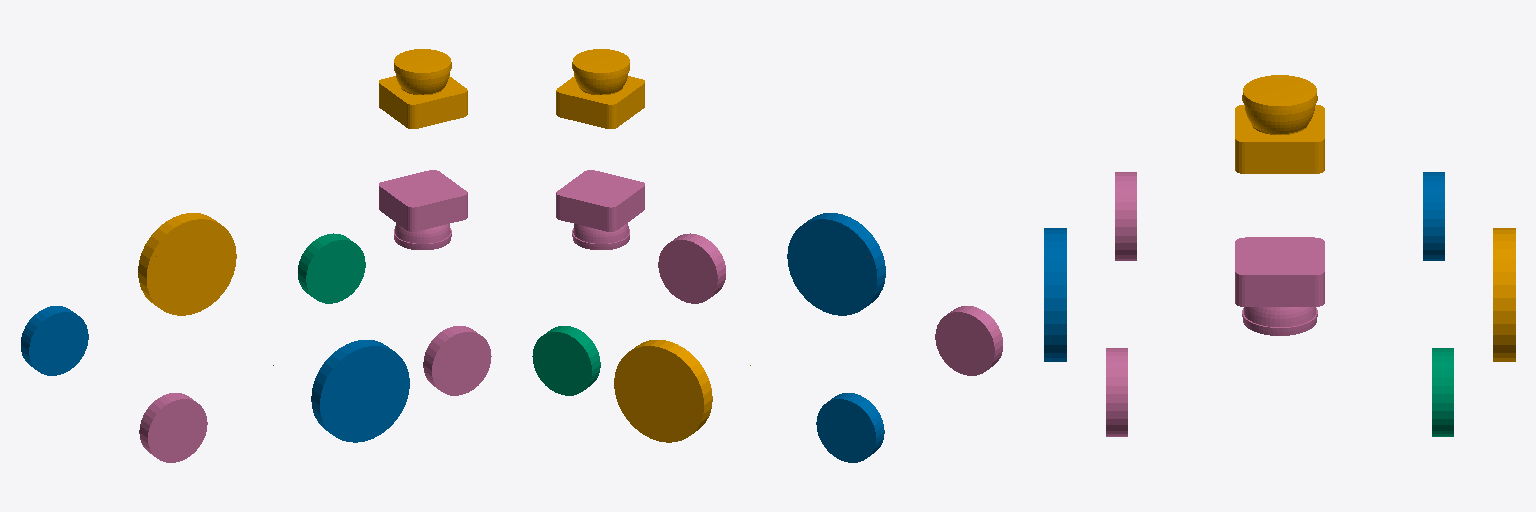
--- What the picture shows (computed from the rendered views, not written in the file) ---
The picture shows the robot from 3 angles, left to right: view 1: azimuth 30°, elevation 25°; view 2: azimuth 150°, elevation 25°; view 3: azimuth 270°, elevation 25°; orthographic projection.
Robot: rb_theron — 34 links, 33 joints (2 revolute, 10 continuous, 21 fixed); root link base_footprint; default pose: all joints at 0.
Links seen in each view (by area): view 1: left_wheel_link, right_wheel_link, front_laser_base_link, top_laser_base_link, leftwheel, rightcastorwheel, leftcastorwheel, rightwheel; view 2: right_wheel_link, left_wheel_link, front_laser_base_link, top_laser_base_link, rightwheel, rightcastorwheel, leftcastorwheel, leftwheel; view 3: front_laser_base_link, top_laser_base_link, right_wheel_link, left_wheel_link, rightcastorwheel, leftcastorwheel, leftwheel, rightwheel.
Boxes of the visible links, x1,y1,x2,y2 form: left_wheel_link: (138,213,236,315); right_wheel_link: (311,340,409,442); front_laser_base_link: (379,170,467,249); top_laser_base_link: (379,49,467,128); leftwheel: (21,306,88,375); rightcastorwheel: (423,326,491,395); leftcastorwheel: (298,233,365,303); rightwheel: (139,393,207,462); right_wheel_link: (787,213,885,315); left_wheel_link: (614,340,712,442); front_laser_base_link: (556,170,644,249); top_laser_base_link: (556,49,644,128); rightwheel: (935,306,1002,375); rightcastorwheel: (658,233,725,303); leftcastorwheel: (532,326,600,395); leftwheel: (816,393,884,462); front_laser_base_link: (1235,237,1324,335); top_laser_base_link: (1235,75,1324,173); right_wheel_link: (1044,228,1066,361); left_wheel_link: (1493,228,1515,361); rightcastorwheel: (1106,348,1127,436); leftcastorwheel: (1432,348,1453,436); leftwheel: (1423,172,1444,260); rightwheel: (1115,172,1136,260).
Bounding box of the posed robot: 0.6183 × 0.528 × 0.4478 m (x, y, z).
Meshes: 8 distinct files referenced, 2 mesh visuals loaded (1 Collada DAE); not drawn: 10 (reference not matched to a file when rendering).

robot.urdf — rb_theron:
<?xml version="1.0" encoding="utf-8"?>
<!-- =================================================================================== -->
<!-- |    This document was autogenerated by xacro from rb_theron.urdf.xacro           | -->
<!-- |    EDITING THIS FILE BY HAND IS NOT RECOMMENDED                                 | -->
<!-- =================================================================================== -->
<robot name="rb_theron">
  <!-- ***************** -->
  <!-- Imported elements -->
  <!-- ***************** -->
  <!-- First we import all posible elements defined in the urdf.xacro files. All these elements are defined as macro:xacros -->
  <!-- in kg-->
  <!-- in kg-->
  <!-- in kg-->
  <!-- in kg-->
  <!-- in kg-->
  <!-- in kg-->
  <!-- in kg-->
  <!-- source en.wikipedia.org/wiki/List_of_moments_of_inertia-->
  <!-- This file unifies all sensors that can be used on simulation, defined as xacro:macros -->
  <!-- Includes -->
  <!-- *************** -->
  <!-- Robots Elements -->
  <!-- *************** -->
  <!-- Here we create the robot elements using the xacro:macros imported at the beggining of this file -->
  <!-- this property is for the chassis -->
  <!-- xacro:property name="wheel_width" value="0.150" / -->
  <link name="base_footprint">
    <visual>
      <origin rpy="0 0 0" xyz="0 0 0"/>
      <geometry>
        <box size="0.001 0.001 0.001"/>
      </geometry>
    </visual>
  </link>
  <joint name="base_footprint_joint" type="fixed">
    <origin rpy="0 0 0" xyz="0 0 0.0606"/>
    <parent link="base_footprint"/>
    <child link="base_link"/>
  </joint>
  <!-- BASE_LINK -->
  <link name="base_link">
    <inertial>
      <mass value="50.0"/>
      <origin xyz="-0.120 0 0"/>
      <inertia ixx="2.01041666667" ixy="0" ixz="0" iyy="2.55208333333" iyz="0" izz="2.55208333333"/>
    </inertial>
    <visual>
      <origin rpy="0 0 0" xyz="0 0 0"/>
      <geometry>
        <mesh filename="meshes/bases/theron_base.stl"/>
      </geometry>
      <material name="darkgrey">
        <color rgba="0.1 0.1 0.1 1"/>
      </material>
    </visual>
    <collision>
      <origin rpy="0 0 0 " xyz="0 0 0"/>
      <geometry>
        <!--box size="0.390 0.240 0.165"/-->
        <mesh filename="meshes/bases/theron_base.stl"/>
      </geometry>
    </collision>
  </link>
  <link name="bottom_cover_link">
    <inertial>
      <mass value="2.0"/>
      <origin xyz="0 0 0"/>
      <inertia ixx="0.0804166666667" ixy="0" ixz="0" iyy="0.102083333333" iyz="0" izz="0.102083333333"/>
    </inertial>
    <visual>
      <origin rpy="0 0 0" xyz="0 0 0"/>
      <geometry>
        <mesh filename="meshes/bases/mcq_prototype_bottom_cover.dae"/>
      </geometry>
      <material name="darkgrey">
        <color rgba="0.1 0.1 0.1 1"/>
      </material>
    </visual>
    <collision>
      <origin rpy="0 0 0 " xyz="0 0 0"/>
      <geometry>
        <mesh filename="meshes/bases/mcq_prototype_bottom_cover.dae"/>
      </geometry>
    </collision>
  </link>
  <joint name="bottom_cover_joint" type="fixed">
    <origin rpy="0 0 0" xyz="0 0 0"/>
    <parent link="base_link"/>
    <child link="bottom_cover_link"/>
  </joint>
  <!-- DOCKING CONTACTS -->
  <!--joint name="${prefix}base_docking_joint" type="fixed">
      <origin xyz="0.030 0.000 0.068" rpy="0 0 0 " />
      <parent link="${prefix}front_cover_link"/>
      <child link="${prefix}base_docking_contact_link" />
    </joint-->
  <!-- DOCKING LINK -->
  <!--link name="${prefix}base_docking_contact_link" /-->
  <gazebo>
    <plugin filename="libgazebo_ros_control.so" name="ros_control">
      <!--robotNamespace>/robot</robotNamespace-->
      <robotParam>robot/description</robotParam>
      <controlPeriod>0.001</controlPeriod>
      <robotSimType>gazebo_ros_control/DefaultRobotHWSim</robotSimType>
      <legacyModeNS>true</legacyModeNS>
    </plugin>
  </gazebo>
  <gazebo reference="base_footprint">
    <material>Gazebo/Green</material>
  </gazebo>
  <gazebo reference="base_link">
    <material>Gazebo/Grey</material>
  </gazebo>
  <gazebo reference="front_cover_link">
    <material>Gazebo/Black</material>
  </gazebo>
  <!--ROCKER BOGIE SUPPORT -->
  <!--joint name="${prefix}joint_support" type="continuous">
      <parent link="${parent}"/>
      <child link="${prefix}support"/>
      <insert_block name="origin" />
      <axis xyz="0 1 0" rpy="0 0 ${M_PI}" />
      <limit effort="100" velocity="100"/>
      <joint_properties damping="0.1" friction="0.1"/>
	</joint -->
  <joint name="rightjoint_rsupport" type="revolute">
    <parent link="base_link"/>
    <child link="rightrsupport"/>
    <origin rpy="0 0 0" xyz="0.1175 -0.1725 0.0428"/>
    <axis rpy="0 0 3.14159265359" xyz="0 1 0"/>
    <limit effort="100" lower="-0.5" upper="0.5" velocity="100"/>
    <joint_properties damping="0.1" friction="0.1"/>
  </joint>
  <link name="rightrsupport">
    <visual>
      <origin rpy="0 0 0" xyz="0 0 0"/>
      <geometry>
        <mesh filename="meshes/rocker/mcq_prototype_rocker_r.dae"/>
      </geometry>
    </visual>
    <collision>
      <origin rpy="0 0 0" xyz="0 0 0"/>
      <geometry>
        <mesh filename="meshes/rocker/mcq_prototype_rocker_r.dae"/>
      </geometry>
    </collision>
    <inertial>
      <mass value="1.5"/>
      <origin xyz="0 0 0"/>
      <inertia ixx="5e-05" ixy="0" ixz="0" iyy="5e-05" iyz="0" izz="7.5e-05"/>
      <!--Check these values -->
    </inertial>
  </link>
  <!-- Transmission is important to link the joints and the controller -->
  <transmission name="rightrsupport_joint_trans">
    <type>transmission_interface/SimpleTransmission</type>
    <joint name="rightjoint_rsupport">
      <hardwareInterface>hardware_interface/EffortJointInterface</hardwareInterface>
    </joint>
    <actuator name="rightrsupport_joint_motor">
      <mechanicalReduction>1</mechanicalReduction>
      <motorTorqueConstant>1</motorTorqueConstant>
    </actuator>
  </transmission>
  <!-- xacro:rubber_wheel prefix="$(arg prefix)wheel" parent="$(arg prefix)support" reflect="true" hq="${hq}">
		<origin xyz="${wheel_offset_x} ${wheel_offset_y} ${wheel_offset_z}" rpy="0 0 0"/>
	</xacro:rubber_wheel -->
  <!--WHEEL TIRE -->
  <joint name="right_wheel_joint" type="continuous">
    <parent link="rightrsupport"/>
    <child link="right_wheel_link"/>
    <origin rpy="0 0 0" xyz="-0.1175 -0.079 -0.0428"/>
    <axis rpy="0 0 0" xyz="0 1 0"/>
    <limit effort="100" velocity="100"/>
    <joint_properties damping="0.0" friction="0.0"/>
  </joint>
  <link name="right_wheel_link">
    <visual>
      <!-- HIGH RESOLUTION WHEELS -->
      <!-- LOW RESOLUTION WHEELS -->
      <origin rpy="1.57079632679 0 0" xyz="0 0 0"/>
      <geometry>
        <cylinder length="0.025" radius="0.0756"/>
      </geometry>
    </visual>
    <collision>
      <origin rpy="1.57079632679 0 0" xyz="0 0 0"/>
      <geometry>
        <cylinder length="0.025" radius="0.0756"/>
      </geometry>
    </collision>
    <inertial>
      <mass value="0.25"/>
      <origin xyz="0 0 0"/>
      <inertia ixx="0.000370230833333" ixy="0" ixz="0" iyy="0.000370230833333" iyz="0" izz="0.00071442"/>
    </inertial>
  </link>
  <!-- Transmission is important to link the joints and the controller (see rb_theron_control/config/rb_theron_control.yaml)-->
  <transmission name="right_wheel_joint_trans">
    <type>transmission_interface/SimpleTransmission</type>
    <joint name="right_wheel_joint">
      <!-- for the gazebo plugin -->
      <!--hardwareInterface>EffortJointInterface</hardwareInterface-->
      <!-- for ros control controller -->
      <hardwareInterface>hardware_interface/VelocityJointInterface</hardwareInterface>
    </joint>
    <actuator name="right_wheel_joint_motor">
      <mechanicalReduction>1</mechanicalReduction>
      <motorTorqueConstant>20</motorTorqueConstant>
    </actuator>
  </transmission>
  <gazebo reference="right_wheel_link">
    <!-- mu1 value="5.0"/>
			<mu2 value="0.5"/>
			<kp value="10000000.0" />
			<kd value="1.0" />
			<fdir1 value="1 0 0"/>
			<material>Gazebo/Yellow</material>
			<turnGravityOff>false</turnGravityOff -->
    <!-- mu1 value="5.0"/>
			<mu2 value="0.5"/ -->
    <mu1 value="100.0"/>
    <mu2 value="100.0"/>
    <!-- kp value="100000.0" / -->
    <kp value="500000.0"/>
    <kd value="1.0"/>
    <!-- fdir1 value="1 0 0"/ -->
    <material>Gazebo/Yellow</material>
    <turnGravityOff>false</turnGravityOff>
    <!--kp>500000.0</kp>
			<kd>10.0</kd>
			<mu1>10</mu1>
			<mu2>10</mu2>
			<fdir1>1 0 0</fdir1-->
    <!--minDepth>0.001</minDepth-->
    <!--material>Gazebo/Black</material-->
    <!--mu1 value="10"/>
			<mu2 value="5"/>
			<kp value="500000.0" />
			<kd value="10.0" />
			<fdir1 value="1 0 0"/>
			<material>Gazebo/Yellow</material>
			<turnGravityOff>false</turnGravityOff-->
  </gazebo>
  <!--gazebo reference="${name}_wheel_link">
			<kp>500000.0</kp>
			<kd>10.0</kd>
			<mu1>10</mu1>
			<mu2>10</mu2>
			<fdir1>1 0 0</fdir1>
			<maxVel>1.0</maxVel>
			<minDepth>0.003</minDepth>
			<material>Gazebo/Yellow</material>
			<turnGravityOff>false</turnGravityOff>
			<implicitSpringDamper>1</implicitSpringDamper>
		</gazebo-->
  <!-- xacro:caster prefix="$(arg prefix)left" parent="$(arg prefix)support" hq="${hq}">
		<origin xyz="${caster_offset_x} ${caster_offset_y} ${caster_offset_z}" rpy="0 0 0"/>
	</xacro:caster -->
  <!--CASTER SUPPORT -->
  <joint name="rightcastorjoint_support" type="continuous">
    <parent link="rightrsupport"/>
    <child link="rightcastorsupport"/>
    <origin rpy="0 0 0" xyz="0.1175 -0.01 0.002"/>
    <axis rpy="0 3.14159265359 0" xyz="0 0 1"/>
    <limit effort="100" velocity="100"/>
    <!-- joint_properties damping="1.5" friction="1.5"/ -->
    <dynamics damping="0" friction="0.01"/>
  </joint>
  <link name="rightcastorsupport">
    <visual>
      <origin rpy="0 0 0" xyz="0 0 0"/>
      <geometry>
        <mesh filename="meshes/wheels/mcq_prototype_base_castor.dae"/>
      </geometry>
    </visual>
    <collision>
      <origin rpy="0 0 0" xyz="0 0 0"/>
      <geometry>
        <mesh filename="meshes/wheels/mcq_prototype_base_castor.dae"/>
      </geometry>
    </collision>
    <inertial>
      <mass value="1.5"/>
      <origin xyz="0 0 0"/>
      <inertia ixx="5e-05" ixy="0" ixz="0" iyy="5e-05" iyz="0" izz="7.5e-05"/>
      <!--Check these values -->
    </inertial>
  </link>
  <joint name="rightcastorjoint_wheel" type="continuous">
    <parent link="rightcastorsupport"/>
    <child link="rightcastorwheel"/>
    <origin rpy="0 0 0" xyz="-0.033 0.0 -0.071"/>
    <axis rpy="0 0 0" xyz="0 1 0"/>
    <limit effort="100" velocity="100"/>
    <joint_properties damping="0.1" friction="0.1"/>
  </joint>
  <link name="rightcastorwheel">
    <visual>
      <!-- HIGH RESOLUTION WHEELS -->
      <!-- xacro:if value="${hq}">
          <origin xyz="0 0 0" rpy="0 0 0" />
          <geometry>     
		<mesh filename="meshes/wheels/mcq_prototype_castor_wheel.dae" />
          </geometry>         
        </xacro:if -->
      <!-- LOW RESOLUTION WHEELS -->
      <!-- xacro:unless value="${hq}" -->
      <origin rpy="1.57079632679 0 0" xyz="0 0 0"/>
      <geometry>
        <cylinder length="0.025" radius="0.05"/>
        <!-- sphere radius="${caster_radius}"/ -->
      </geometry>
      <!-- /xacro:unless -->
    </visual>
    <collision>
      <origin rpy="1.57079632679 0 0" xyz="0 0 0"/>
      <!-- origin xyz="0 0 0" rpy="0 0 0" / -->
      <geometry>
        <!-- mesh filename="meshes/wheels/mcq_prototype_castor_wheel.dae" / -->
        <cylinder length="0.025" radius="0.05"/>
        <!-- sphere radius="${caster_radius}"/ -->
      </geometry>
      <surface>
        <bounce restitution_coefficient="1"/>
      </surface>
    </collision>
    <inertial>
      <mass value="0.25"/>
      <origin xyz="0 0 0"/>
      <inertia ixx="0.000169270833333" ixy="0" ixz="0" iyy="0.000169270833333" iyz="0" izz="0.0003125"/>
    </inertial>
  </link>
  <!-- Transmission is important to link the joints and the controller -->
  <transmission name="rightcastorsupport_joint_trans">
    <type>transmission_interface/SimpleTransmission</type>
    <joint name="rightcastorjoint_support">
      <hardwareInterface>hardware_interface/EffortJointInterface</hardwareInterface>
    </joint>
    <actuator name="rightcastorsupport_joint_motor">
      <mechanicalReduction>1</mechanicalReduction>
      <motorTorqueConstant>1</motorTorqueConstant>
    </actuator>
  </transmission>
  <transmission name="rightcastorwheel_joint_trans">
    <type>transmission_interface/SimpleTransmission</type>
    <joint name="rightcastorjoint_wheel">
      <hardwareInterface>hardware_interface/EffortJointInterface</hardwareInterface>
    </joint>
    <actuator name="rightcastorwheel_joint_motor">
      <mechanicalReduction>1</mechanicalReduction>
      <motorTorqueConstant>1</motorTorqueConstant>
    </actuator>
  </transmission>
  <!-- gazebo reference="${prefix}support">
			<mu1 value="5.0"/>
			<mu2 value="0.5"/>
			<kp value="10000000.0" />
			<kd value="1.0" />
			<fdir1 value="1 0 0"/>
      <turnGravityOff>false</turnGravityOff>
    </gazebo -->
  <gazebo reference="rightcastor_wheel">
    <mu1 value="100.0"/>
    <mu2 value="100.0"/>
    <!-- kp value="10000000.0" / -->
    <kp value="100000.0"/>
    <kd value="100.0"/>
    <!-- fdir1 value="1 0 0"/ -->
    <material>Gazebo/Black</material>
    <turnGravityOff>false</turnGravityOff>
  </gazebo>
  <!-- gazebo reference="${prefix}support">
			<mu1 value="5.0"/>
			<mu2 value="0.5"/>
			<kp value="10000000.0" />
			<kd value="1.0" />
			<fdir1 value="1 0 0"/>
      <turnGravityOff>false</turnGravityOff>
    </gazebo>
    
     <gazebo reference="${prefix}_wheel">
			<mu1 value="5.0"/>
			<mu2 value="0.5"/>
			<kp value="10000000.0" />
			<kd value="1.0" />
			<fdir1 value="1 0 0"/>
      <turnGravityOff>false</turnGravityOff>
    </gazebo -->
  <!--ROCKER BOGIE SUPPORT -->
  <!--joint name="${prefix}joint_support" type="continuous">
      <parent link="${parent}"/>
      <child link="${prefix}support"/>
      <insert_block name="origin" />
      <axis xyz="0 1 0" rpy="0 0 ${M_PI}" />
      <limit effort="100" velocity="100"/>
      <joint_properties damping="0.1" friction="0.1"/>
	</joint -->
  <joint name="leftjoint_rsupport" type="revolute">
    <parent link="base_link"/>
    <child link="leftrsupport"/>
    <origin rpy="0 0 0" xyz="0.1175 0.1725 0.0428"/>
    <axis rpy="0 0 3.14159265359" xyz="0 1 0"/>
    <limit effort="100" lower="-0.5" upper="0.5" velocity="100"/>
    <joint_properties damping="0.1" friction="0.1"/>
  </joint>
  <link name="leftrsupport">
    <visual>
      <origin rpy="0 0 0" xyz="0 0 0"/>
      <geometry>
        <mesh filename="meshes/rocker/mcq_prototype_rocker_l.dae"/>
      </geometry>
    </visual>
    <collision>
      <origin rpy="0 0 0" xyz="0 0 0"/>
      <geometry>
        <mesh filename="meshes/rocker/mcq_prototype_rocker_l.dae"/>
      </geometry>
    </collision>
    <inertial>
      <mass value="1.5"/>
      <origin xyz="0 0 0"/>
      <inertia ixx="5e-05" ixy="0" ixz="0" iyy="5e-05" iyz="0" izz="7.5e-05"/>
      <!--Check these values -->
    </inertial>
  </link>
  <!-- Transmission is important to link the joints and the controller -->
  <transmission name="leftrsupport_joint_trans">
    <type>transmission_interface/SimpleTransmission</type>
    <joint name="leftjoint_rsupport">
      <hardwareInterface>hardware_interface/EffortJointInterface</hardwareInterface>
    </joint>
    <actuator name="leftrsupport_joint_motor">
      <mechanicalReduction>1</mechanicalReduction>
      <motorTorqueConstant>1</motorTorqueConstant>
    </actuator>
  </transmission>
  <!-- xacro:rubber_wheel prefix="$(arg prefix)wheel" parent="$(arg prefix)support" reflect="true" hq="${hq}">
		<origin xyz="${wheel_offset_x} ${wheel_offset_y} ${wheel_offset_z}" rpy="0 0 0"/>
	</xacro:rubber_wheel -->
  <!--WHEEL TIRE -->
  <joint name="left_wheel_joint" type="continuous">
    <parent link="leftrsupport"/>
    <child link="left_wheel_link"/>
    <origin rpy="0 0 0" xyz="-0.1175 0.079 -0.0428"/>
    <axis rpy="0 0 0" xyz="0 1 0"/>
    <limit effort="100" velocity="100"/>
    <joint_properties damping="0.0" friction="0.0"/>
  </joint>
  <link name="left_wheel_link">
    <visual>
      <!-- HIGH RESOLUTION WHEELS -->
      <!-- LOW RESOLUTION WHEELS -->
      <origin rpy="1.57079632679 0 0" xyz="0 0 0"/>
      <geometry>
        <cylinder length="0.025" radius="0.0756"/>
      </geometry>
    </visual>
    <collision>
      <origin rpy="1.57079632679 0 0" xyz="0 0 0"/>
      <geometry>
        <cylinder length="0.025" radius="0.0756"/>
      </geometry>
    </collision>
    <inertial>
      <mass value="0.25"/>
      <origin xyz="0 0 0"/>
      <inertia ixx="0.000370230833333" ixy="0" ixz="0" iyy="0.000370230833333" iyz="0" izz="0.00071442"/>
    </inertial>
  </link>
  <!-- Transmission is important to link the joints and the controller (see rb_theron_control/config/rb_theron_control.yaml)-->
  <transmission name="left_wheel_joint_trans">
    <type>transmission_interface/SimpleTransmission</type>
    <joint name="left_wheel_joint">
      <!-- for the gazebo plugin -->
      <!--hardwareInterface>EffortJointInterface</hardwareInterface-->
      <!-- for ros control controller -->
      <hardwareInterface>hardware_interface/VelocityJointInterface</hardwareInterface>
    </joint>
    <actuator name="left_wheel_joint_motor">
      <mechanicalReduction>1</mechanicalReduction>
      <motorTorqueConstant>20</motorTorqueConstant>
    </actuator>
  </transmission>
  <gazebo reference="left_wheel_link">
    <!-- mu1 value="5.0"/>
			<mu2 value="0.5"/>
			<kp value="10000000.0" />
			<kd value="1.0" />
			<fdir1 value="1 0 0"/>
			<material>Gazebo/Yellow</material>
			<turnGravityOff>false</turnGravityOff -->
    <!-- mu1 value="5.0"/>
			<mu2 value="0.5"/ -->
    <mu1 value="100.0"/>
    <mu2 value="100.0"/>
    <!-- kp value="100000.0" / -->
    <kp value="500000.0"/>
    <kd value="1.0"/>
    <!-- fdir1 value="1 0 0"/ -->
    <material>Gazebo/Yellow</material>
    <turnGravityOff>false</turnGravityOff>
    <!--kp>500000.0</kp>
			<kd>10.0</kd>
			<mu1>10</mu1>
			<mu2>10</mu2>
			<fdir1>1 0 0</fdir1-->
    <!--minDepth>0.001</minDepth-->
    <!--material>Gazebo/Black</material-->
    <!--mu1 value="10"/>
			<mu2 value="5"/>
			<kp value="500000.0" />
			<kd value="10.0" />
			<fdir1 value="1 0 0"/>
			<material>Gazebo/Yellow</material>
			<turnGravityOff>false</turnGravityOff-->
  </gazebo>
  <!--gazebo reference="${name}_wheel_link">
			<kp>500000.0</kp>
			<kd>10.0</kd>
			<mu1>10</mu1>
			<mu2>10</mu2>
			<fdir1>1 0 0</fdir1>
			<maxVel>1.0</maxVel>
			<minDepth>0.003</minDepth>
			<material>Gazebo/Yellow</material>
			<turnGravityOff>false</turnGravityOff>
			<implicitSpringDamper>1</implicitSpringDamper>
		</gazebo-->
  <!-- xacro:caster prefix="$(arg prefix)left" parent="$(arg prefix)support" hq="${hq}">
		<origin xyz="${caster_offset_x} ${caster_offset_y} ${caster_offset_z}" rpy="0 0 0"/>
	</xacro:caster -->
  <!--CASTER SUPPORT -->
  <joint name="leftcastorjoint_support" type="continuous">
    <parent link="leftrsupport"/>
    <child link="leftcastorsupport"/>
    <origin rpy="0 0 0" xyz="0.1175 0.01 0.002"/>
    <axis rpy="0 3.14159265359 0" xyz="0 0 1"/>
    <limit effort="100" velocity="100"/>
    <!-- joint_properties damping="1.5" friction="1.5"/ -->
    <dynamics damping="0" friction="0.01"/>
  </joint>
  <link name="leftcastorsupport">
    <visual>
      <origin rpy="0 0 0" xyz="0 0 0"/>
      <geometry>
        <mesh filename="meshes/wheels/mcq_prototype_base_castor.dae"/>
      </geometry>
    </visual>
    <collision>
      <origin rpy="0 0 0" xyz="0 0 0"/>
      <geometry>
        <mesh filename="meshes/wheels/mcq_prototype_base_castor.dae"/>
      </geometry>
    </collision>
    <inertial>
      <mass value="1.5"/>
      <origin xyz="0 0 0"/>
      <inertia ixx="5e-05" ixy="0" ixz="0" iyy="5e-05" iyz="0" izz="7.5e-05"/>
      <!--Check these values -->
    </inertial>
  </link>
  <joint name="leftcastorjoint_wheel" type="continuous">
    <parent link="leftcastorsupport"/>
    <child link="leftcastorwheel"/>
    <origin rpy="0 0 0" xyz="-0.033 0.0 -0.071"/>
    <axis rpy="0 0 0" xyz="0 1 0"/>
    <limit effort="100" velocity="100"/>
    <joint_properties damping="0.1" friction="0.1"/>
  </joint>
  <link name="leftcastorwheel">
    <visual>
      <!-- HIGH RESOLUTION WHEELS -->
      <!-- xacro:if value="${hq}">
          <origin xyz="0 0 0" rpy="0 0 0" />
          <geometry>     
		<mesh filename="meshes/wheels/mcq_prototype_castor_wheel.dae" />
          </geometry>         
        </xacro:if -->
      <!-- LOW RESOLUTION WHEELS -->
      <!-- xacro:unless value="${hq}" -->
      <origin rpy="1.57079632679 0 0" xyz="0 0 0"/>
      <geometry>
        <cylinder length="0.025" radius="0.05"/>
        <!-- sphere radius="${caster_radius}"/ -->
      </geometry>
      <!-- /xacro:unless -->
    </visual>
    <collision>
      <origin rpy="1.57079632679 0 0" xyz="0 0 0"/>
      <!-- origin xyz="0 0 0" rpy="0 0 0" / -->
      <geometry>
        <!-- mesh filename="meshes/wheels/mcq_prototype_castor_wheel.dae" / -->
        <cylinder length="0.025" radius="0.05"/>
        <!-- sphere radius="${caster_radius}"/ -->
      </geometry>
      <surface>
        <bounce restitution_coefficient="1"/>
      </surface>
    </collision>
    <inertial>
      <mass value="0.25"/>
      <origin xyz="0 0 0"/>
      <inertia ixx="0.000169270833333" ixy="0" ixz="0" iyy="0.000169270833333" iyz="0" izz="0.0003125"/>
    </inertial>
  </link>
  <!-- Transmission is important to link the joints and the controller -->
  <transmission name="leftcastorsupport_joint_trans">
    <type>transmission_interface/SimpleTransmission</type>
    <joint name="leftcastorjoint_support">
      <hardwareInterface>hardware_interface/EffortJointInterface</hardwareInterface>
    </joint>
    <actuator name="leftcastorsupport_joint_motor">
      <mechanicalReduction>1</mechanicalReduction>
      <motorTorqueConstant>1</motorTorqueConstant>
    </actuator>
  </transmission>
  <transmission name="leftcastorwheel_joint_trans">
    <type>transmission_interface/SimpleTransmission</type>
    <joint name="leftcastorjoint_wheel">
      <hardwareInterface>hardware_interface/EffortJointInterface</hardwareInterface>
    </joint>
    <actuator name="leftcastorwheel_joint_motor">
      <mechanicalReduction>1</mechanicalReduction>
      <motorTorqueConstant>1</motorTorqueConstant>
    </actuator>
  </transmission>
  <!-- gazebo reference="${prefix}support">
			<mu1 value="5.0"/>
			<mu2 value="0.5"/>
			<kp value="10000000.0" />
			<kd value="1.0" />
			<fdir1 value="1 0 0"/>
      <turnGravityOff>false</turnGravityOff>
    </gazebo -->
  <gazebo reference="leftcastor_wheel">
    <mu1 value="100.0"/>
    <mu2 value="100.0"/>
    <!-- kp value="10000000.0" / -->
    <kp value="100000.0"/>
    <kd value="100.0"/>
    <!-- fdir1 value="1 0 0"/ -->
    <material>Gazebo/Black</material>
    <turnGravityOff>false</turnGravityOff>
  </gazebo>
  <!-- gazebo reference="${prefix}support">
			<mu1 value="5.0"/>
			<mu2 value="0.5"/>
			<kp value="10000000.0" />
			<kd value="1.0" />
			<fdir1 value="1 0 0"/>
      <turnGravityOff>false</turnGravityOff>
    </gazebo>
    
     <gazebo reference="${prefix}_wheel">
			<mu1 value="5.0"/>
			<mu2 value="0.5"/>
			<kp value="10000000.0" />
			<kd value="1.0" />
			<fdir1 value="1 0 0"/>
      <turnGravityOff>false</turnGravityOff>
    </gazebo -->
  <!--CASTER SUPPORT -->
  <joint name="leftjoint_support" type="continuous">
    <parent link="base_link"/>
    <child link="leftsupport"/>
    <origin rpy="0 0 0" xyz="-0.235 0.1725 0.0428"/>
    <axis rpy="0 3.14159265359 0" xyz="0 0 1"/>
    <limit effort="100" velocity="100"/>
    <!-- joint_properties damping="1.5" friction="1.5"/ -->
    <dynamics damping="0" friction="0.01"/>
  </joint>
  <link name="leftsupport">
    <visual>
      <origin rpy="0 0 0" xyz="0 0 0"/>
      <geometry>
        <mesh filename="meshes/wheels/mcq_prototype_base_castor.dae"/>
      </geometry>
    </visual>
    <collision>
      <origin rpy="0 0 0" xyz="0 0 0"/>
      <geometry>
        <mesh filename="meshes/wheels/mcq_prototype_base_castor.dae"/>
      </geometry>
    </collision>
    <inertial>
      <mass value="1.5"/>
      <origin xyz="0 0 0"/>
      <inertia ixx="5e-05" ixy="0" ixz="0" iyy="5e-05" iyz="0" izz="7.5e-05"/>
      <!--Check these values -->
    </inertial>
  </link>
  <joint name="leftjoint_wheel" type="continuous">
    <parent link="leftsupport"/>
    <child link="leftwheel"/>
    <origin rpy="0 0 0" xyz="-0.033 0.0 -0.071"/>
    <axis rpy="0 0 0" xyz="0 1 0"/>
    <limit effort="100" velocity="100"/>
    <joint_properties damping="0.1" friction="0.1"/>
  </joint>
  <link name="leftwheel">
    <visual>
      <!-- HIGH RESOLUTION WHEELS -->
      <!-- xacro:if value="${hq}">
          <origin xyz="0 0 0" rpy="0 0 0" />
          <geometry>     
		<mesh filename="meshes/wheels/mcq_prototype_castor_wheel.dae" />
          </geometry>         
        </xacro:if -->
      <!-- LOW RESOLUTION WHEELS -->
      <!-- xacro:unless value="${hq}" -->
      <origin rpy="1.57079632679 0 0" xyz="0 0 0"/>
      <geometry>
        <cylinder length="0.025" radius="0.05"/>
        <!-- sphere radius="${caster_radius}"/ -->
      </geometry>
      <!-- /xacro:unless -->
    </visual>
    <collision>
      <origin rpy="1.57079632679 0 0" xyz="0 0 0"/>
      <!-- origin xyz="0 0 0" rpy="0 0 0" / -->
      <geometry>
        <!-- mesh filename="meshes/wheels/mcq_prototype_castor_wheel.dae" / -->
        <cylinder length="0.025" radius="0.05"/>
        <!-- sphere radius="${caster_radius}"/ -->
      </geometry>
      <surface>
        <bounce restitution_coefficient="1"/>
      </surface>
    </collision>
    <inertial>
      <mass value="0.25"/>
      <origin xyz="0 0 0"/>
      <inertia ixx="0.000169270833333" ixy="0" ixz="0" iyy="0.000169270833333" iyz="0" izz="0.0003125"/>
    </inertial>
  </link>
  <!-- Transmission is important to link the joints and the controller -->
  <transmission name="leftsupport_joint_trans">
    <type>transmission_interface/SimpleTransmission</type>
    <joint name="leftjoint_support">
      <hardwareInterface>hardware_interface/EffortJointInterface</hardwareInterface>
    </joint>
    <actuator name="leftsupport_joint_motor">
      <mechanicalReduction>1</mechanicalReduction>
      <motorTorqueConstant>1</motorTorqueConstant>
    </actuator>
  </transmission>
  <transmission name="leftwheel_joint_trans">
    <type>transmission_interface/SimpleTransmission</type>
    <joint name="leftjoint_wheel">
      <hardwareInterface>hardware_interface/EffortJointInterface</hardwareInterface>
    </joint>
    <actuator name="leftwheel_joint_motor">
      <mechanicalReduction>1</mechanicalReduction>
      <motorTorqueConstant>1</motorTorqueConstant>
    </actuator>
  </transmission>
  <!-- gazebo reference="${prefix}support">
			<mu1 value="5.0"/>
			<mu2 value="0.5"/>
			<kp value="10000000.0" />
			<kd value="1.0" />
			<fdir1 value="1 0 0"/>
      <turnGravityOff>false</turnGravityOff>
    </gazebo -->
  <gazebo reference="left_wheel">
    <mu1 value="100.0"/>
    <mu2 value="100.0"/>
    <!-- kp value="10000000.0" / -->
    <kp value="100000.0"/>
    <kd value="100.0"/>
    <!-- fdir1 value="1 0 0"/ -->
    <material>Gazebo/Black</material>
    <turnGravityOff>false</turnGravityOff>
  </gazebo>
  <!--CASTER SUPPORT -->
  <joint name="rightjoint_support" type="continuous">
    <parent link="base_link"/>
    <child link="rightsupport"/>
    <origin rpy="0 0 0" xyz="-0.235 -0.1725 0.0428"/>
    <axis rpy="0 3.14159265359 0" xyz="0 0 1"/>
    <limit effort="100" velocity="100"/>
    <!-- joint_properties damping="1.5" friction="1.5"/ -->
    <dynamics damping="0" friction="0.01"/>
  </joint>
  <link name="rightsupport">
    <visual>
      <origin rpy="0 0 0" xyz="0 0 0"/>
      <geometry>
        <mesh filename="meshes/wheels/mcq_prototype_base_castor.dae"/>
      </geometry>
    </visual>
    <collision>
      <origin rpy="0 0 0" xyz="0 0 0"/>
      <geometry>
        <mesh filename="meshes/wheels/mcq_prototype_base_castor.dae"/>
      </geometry>
    </collision>
    <inertial>
      <mass value="1.5"/>
      <origin xyz="0 0 0"/>
      <inertia ixx="5e-05" ixy="0" ixz="0" iyy="5e-05" iyz="0" izz="7.5e-05"/>
      <!--Check these values -->
    </inertial>
  </link>
  <joint name="rightjoint_wheel" type="continuous">
    <parent link="rightsupport"/>
    <child link="rightwheel"/>
    <origin rpy="0 0 0" xyz="-0.033 0.0 -0.071"/>
    <axis rpy="0 0 0" xyz="0 1 0"/>
    <limit effort="100" velocity="100"/>
    <joint_properties damping="0.1" friction="0.1"/>
  </joint>
  <link name="rightwheel">
    <visual>
      <!-- HIGH RESOLUTION WHEELS -->
      <!-- xacro:if value="${hq}">
          <origin xyz="0 0 0" rpy="0 0 0" />
          <geometry>     
		<mesh filename="meshes/wheels/mcq_prototype_castor_wheel.dae" />
          </geometry>         
        </xacro:if -->
      <!-- LOW RESOLUTION WHEELS -->
      <!-- xacro:unless value="${hq}" -->
      <origin rpy="1.57079632679 0 0" xyz="0 0 0"/>
      <geometry>
        <cylinder length="0.025" radius="0.05"/>
        <!-- sphere radius="${caster_radius}"/ -->
      </geometry>
      <!-- /xacro:unless -->
    </visual>
    <collision>
      <origin rpy="1.57079632679 0 0" xyz="0 0 0"/>
      <!-- origin xyz="0 0 0" rpy="0 0 0" / -->
      <geometry>
        <!-- mesh filename="meshes/wheels/mcq_prototype_castor_wheel.dae" / -->
        <cylinder length="0.025" radius="0.05"/>
        <!-- sphere radius="${caster_radius}"/ -->
      </geometry>
      <surface>
        <bounce restitution_coefficient="1"/>
      </surface>
    </collision>
    <inertial>
      <mass value="0.25"/>
      <origin xyz="0 0 0"/>
      <inertia ixx="0.000169270833333" ixy="0" ixz="0" iyy="0.000169270833333" iyz="0" izz="0.0003125"/>
    </inertial>
  </link>
  <!-- Transmission is important to link the joints and the controller -->
  <transmission name="rightsupport_joint_trans">
    <type>transmission_interface/SimpleTransmission</type>
    <joint name="rightjoint_support">
      <hardwareInterface>hardware_interface/EffortJointInterface</hardwareInterface>
    </joint>
    <actuator name="rightsupport_joint_motor">
      <mechanicalReduction>1</mechanicalReduction>
      <motorTorqueConstant>1</motorTorqueConstant>
    </actuator>
  </transmission>
  <transmission name="rightwheel_joint_trans">
    <type>transmission_interface/SimpleTransmission</type>
    <joint name="rightjoint_wheel">
      <hardwareInterface>hardware_interface/EffortJointInterface</hardwareInterface>
    </joint>
    <actuator name="rightwheel_joint_motor">
      <mechanicalReduction>1</mechanicalReduction>
      <motorTorqueConstant>1</motorTorqueConstant>
    </actuator>
  </transmission>
  <!-- gazebo reference="${prefix}support">
			<mu1 value="5.0"/>
			<mu2 value="0.5"/>
			<kp value="10000000.0" />
			<kd value="1.0" />
			<fdir1 value="1 0 0"/>
      <turnGravityOff>false</turnGravityOff>
    </gazebo -->
  <gazebo reference="right_wheel">
    <mu1 value="100.0"/>
    <mu2 value="100.0"/>
    <!-- kp value="10000000.0" / -->
    <kp value="100000.0"/>
    <kd value="100.0"/>
    <!-- fdir1 value="1 0 0"/ -->
    <material>Gazebo/Black</material>
    <turnGravityOff>false</turnGravityOff>
  </gazebo>
  <!-- camera body, with origin at bottom screw mount -->
  <joint name="front_realsense_camera_camera_joint" type="fixed">
    <origin rpy="0 0 0" xyz="0.3305 0.0 0.1468"/>
    <parent link="base_link"/>
    <child link="front_realsense_camera_camera_link"/>
  </joint>
  <link name="front_realsense_camera_camera_link">
    <visual>
      <!-- origin xyz="0 ${-r430_cam_mount_from_center_offset} ${r430_cam_height/2}" rpy="${M_PI/2} 0 ${M_PI/2}"/ -->
      <origin rpy="0 0 0" xyz="0 -0.0 0"/>
      <geometry>
        <!-- box size="${r430_cam_width} ${r430_cam_height} ${r430_cam_depth}"/ -->
        <mesh filename="meshes/sensors/intel_r430.dae"/>
      </geometry>
      <material name="aluminum">
        <color rgba="0.5 0.5 0.5 1"/>
      </material>
    </visual>
    <collision>
      <origin rpy="0 0 0" xyz="-0.0125 0.0 0.0"/>
      <geometry>
        <box size="0.025 0.1 0.025"/>
      </geometry>
    </collision>
    <inertial>
      <origin rpy="0 0 0" xyz="-0.0125 0.0 0.0"/>
      <mass value="0.1"/>
      <inertia ixx="7.27083333333e-05" ixy="0" ixz="0" iyy="1.04166666667e-05" iyz="0" izz="7.27083333333e-05"/>
    </inertial>
  </link>
  <!-- camera depth joints and links -->
  <joint name="front_realsense_camera_camera_depth_joint" type="fixed">
    <origin rpy="0 0 0" xyz="0.0 -0.0115 0.0"/>
    <parent link="front_realsense_camera_camera_link"/>
    <child link="front_realsense_camera_camera_depth_frame"/>
  </joint>
  <link name="front_realsense_camera_camera_depth_frame"/>
  <joint name="front_realsense_camera_camera_depth_optical_joint" type="fixed">
    <origin rpy="-1.57079632679 0 -1.57079632679" xyz="0 0 0"/>
    <parent link="front_realsense_camera_camera_depth_frame"/>
    <child link="front_realsense_camera_camera_depth_optical_frame"/>
  </joint>
  <link name="front_realsense_camera_camera_depth_optical_frame"/>
  <!-- camera left IR joints and links -->
  <joint name="front_realsense_camera_camera_left_ir_joint" type="fixed">
    <origin rpy="0 0 0" xyz="0 -0.021 0"/>
    <parent link="front_realsense_camera_camera_depth_frame"/>
    <child link="front_realsense_camera_camera_left_ir_frame"/>
  </joint>
  <link name="front_realsense_camera_camera_left_ir_frame"/>
  <joint name="front_realsense_camera_camera_left_ir_optical_joint" type="fixed">
    <origin rpy="-1.57079632679 0 -1.57079632679" xyz="0 0 0"/>
    <parent link="front_realsense_camera_camera_left_ir_frame"/>
    <child link="front_realsense_camera_camera_left_ir_optical_frame"/>
  </joint>
  <link name="front_realsense_camera_camera_left_ir_optical_frame"/>
  <!-- camera right IR joints and links -->
  <joint name="front_realsense_camera_camera_right_ir_joint" type="fixed">
    <origin rpy="0 0 0" xyz="0 0.029 0"/>
    <parent link="front_realsense_camera_camera_depth_frame"/>
    <child link="front_realsense_camera_camera_right_ir_frame"/>
  </joint>
  <link name="front_realsense_camera_camera_right_ir_frame"/>
  <joint name="front_realsense_camera_camera_right_ir_optical_joint" type="fixed">
    <origin rpy="-1.57079632679 0 -1.57079632679" xyz="0 0 0"/>
    <parent link="front_realsense_camera_camera_right_ir_frame"/>
    <child link="front_realsense_camera_camera_right_ir_optical_frame"/>
  </joint>
  <link name="front_realsense_camera_camera_right_ir_optical_frame"/>
  <!-- camera fisheye joints and links -->
  <joint name="front_realsense_camera_camera_fisheye_joint" type="fixed">
    <origin rpy="0 0 0" xyz="0 0.044 0"/>
    <parent link="front_realsense_camera_camera_depth_frame"/>
    <child link="front_realsense_camera_camera_fisheye_frame"/>
  </joint>
  <link name="front_realsense_camera_camera_fisheye_frame"/>
  <joint name="front_realsense_camera_camera_fisheye_optical_joint" type="fixed">
    <origin rpy="-1.57079632679 0 -1.57079632679" xyz="0 0 0"/>
    <parent link="front_realsense_camera_camera_fisheye_frame"/>
    <child link="front_realsense_camera_camera_fisheye_optical_frame"/>
  </joint>
  <link name="front_realsense_camera_camera_fisheye_optical_frame"/>
  <!-- gazebo reference="${prefix}_rgb_base_link" -->
  <gazebo reference="front_realsense_camera_camera_link">
    <sensor name="front_realsense_camera_depth_sensor" type="depth">
      <always_on>true</always_on>
      <update_rate>15.0</update_rate>
      <camera>
        <horizontal_fov>1.59174027782</horizontal_fov>
        <image>
          <format>R8G8B8</format>
          <width>640</width>
          <height>480</height>
        </image>
        <clip>
          <near>0.3</near>
          <far>10.0</far>
        </clip>
      </camera>
      <plugin filename="libgazebo_ros_openni_kinect.so" name="front_realsense_camera_controller">
        <cameraName>front_realsense_camera</cameraName>
        <alwaysOn>true</alwaysOn>
        <updateRate>10</updateRate>
        <imageTopicName>rgb/image_raw</imageTopicName>
        <depthImageTopicName>depth/image_raw</depthImageTopicName>
        <pointCloudTopicName>depth/points</pointCloudTopicName>
        <cameraInfoTopicName>rgb/camera_info</cameraInfoTopicName>
        <depthImageCameraInfoTopicName>depth/camera_info</depthImageCameraInfoTopicName>
        <frameName>/front_realsense_camera_camera_depth_optical_frame</frameName>
        <baseline>0.1</baseline>
        <distortion_k1>0.0</distortion_k1>
        <distortion_k2>0.0</distortion_k2>
        <distortion_k3>0.0</distortion_k3>
        <distortion_t1>0.0</distortion_t1>
        <distortion_t2>0.0</distortion_t2>
        <pointCloudCutoff>0.4</pointCloudCutoff>
      </plugin>
    </sensor>
  </gazebo>
  <joint name="front_rgbd_camera_joint" type="fixed">
    <origin rpy="0 0 0" xyz="0.25 0 0.265"/>
    <parent link="base_link"/>
    <child link="front_rgbd_camera_link"/>
  </joint>
  <link name="front_rgbd_camera_link">
    <visual>
      <origin rpy="0 0 0" xyz="0 0 0"/>
      <geometry>
        <mesh filename="meshes/sensors/orbbec_astra.dae"/>
      </geometry>
    </visual>
    <collision>
      <geometry>
        <mesh filename="meshes/sensors/orbbec_astra.dae"/>
      </geometry>
    </collision>
    <inertial>
      <mass value="0.001"/>
      <origin xyz="0.0 0.0 0.0"/>
      <inertia ixx="2.34375e-06" ixy="0" ixz="0" iyy="2.08333333333e-07" iyz="0" izz="2.40208333333e-06"/>
    </inertial>
  </link>
  <joint name="front_rgbd_camera_rgb_joint" type="fixed">
    <origin rpy="0.0 0.0 0.0" xyz="0.0 0.0 0.0"/>
    <parent link="front_rgbd_camera_link"/>
    <child link="front_rgbd_camera_rgb_frame"/>
  </joint>
  <link name="front_rgbd_camera_rgb_frame">
    <inertial>
      <mass value="0.297"/>
      <origin xyz="-0.02 -0.0125 0.0"/>
      <inertia ixx="0.00069609375" ixy="0" ixz="0" iyy="6.1875e-05" iyz="0" izz="0.00071341875"/>
    </inertial>
  </link>
  <joint name="front_rgbd_camera_rgb_optical_joint" type="fixed">
    <origin rpy="-1.57079632679 0 -1.57079632679" xyz="0.0 0.0 0.0"/>
    <parent link="front_rgbd_camera_rgb_frame"/>
    <child link="front_rgbd_camera_rgb_optical_frame"/>
  </joint>
  <link name="front_rgbd_camera_rgb_optical_frame">
    <inertial>
      <mass value="0.001"/>
      <origin rpy="1.57079632679 0 1.57079632679" xyz="0 0 0"/>
      <inertia ixx="2.34375e-06" ixy="0" ixz="0" iyy="2.08333333333e-07" iyz="0" izz="2.40208333333e-06"/>
    </inertial>
  </link>
  <joint name="front_rgbd_camera_depth_joint" type="fixed">
    <origin rpy="0 0 0" xyz="0.0 0.0 0.0"/>
    <parent link="front_rgbd_camera_link"/>
    <child link="front_rgbd_camera_depth_frame"/>
  </joint>
  <link name="front_rgbd_camera_depth_frame">
    <inertial>
      <mass value="0.001"/>
      <origin xyz="0 0 0"/>
      <inertia ixx="2.34375e-06" ixy="0" ixz="0" iyy="2.08333333333e-07" iyz="0" izz="2.40208333333e-06"/>
    </inertial>
  </link>
  <joint name="front_rgbd_camera_depth_optical_joint" type="fixed">
    <origin rpy="-1.57079632679 0 -1.57079632679" xyz="0 0 0"/>
    <parent link="front_rgbd_camera_depth_frame"/>
    <child link="front_rgbd_camera_depth_optical_frame"/>
  </joint>
  <link name="front_rgbd_camera_depth_optical_frame">
    <inertial>
      <mass value="0.001"/>
      <origin xyz="0 0 0"/>
      <inertia ixx="2.34375e-06" ixy="0" ixz="0" iyy="2.08333333333e-07" iyz="0" izz="2.40208333333e-06"/>
    </inertial>
  </link>
  <joint name="imu_joint" type="fixed">
    <axis xyz="1 0 0"/>
    <!--origin xyz="0 0 0.2825"/-->
    <origin rpy="0 0 0" xyz="-0.1975 0.0 0.1598"/>
    <parent link="base_link"/>
    <child link="imu_link"/>
  </joint>
  <link name="imu_link">
    <inertial>
      <origin rpy="0 0 0" xyz="0.0 0 0.01"/>
      <mass value="0.05"/>
      <inertia ixx="3.33333333333e-06" ixy="0" ixz="0" iyy="3.33333333333e-06" iyz="0" izz="3.33333333333e-06"/>
    </inertial>
    <visual>
      <origin rpy="0 0 0" xyz="0 0 0"/>
      <geometry>
        <box size="0.001 0.001 0.001"/>
      </geometry>
    </visual>
    <collision>
      <origin rpy="0 0 0" xyz="0 0 0"/>
      <geometry>
        <box size=".001 .001 .001"/>
      </geometry>
    </collision>
  </link>

  <joint name="front_laser_base_joint" type="fixed">
    <origin rpy="0 3.1416 3.1416" xyz="0.250 0.0 0.1643"/>
    <parent link="base_link"/>
    <child link="front_laser_base_link"/>
  </joint>
  <link name="front_laser_base_link">
    <collision>
      <origin rpy="0 0 0" xyz="0 0 0"/>
      <geometry>
        <!--<box size="0.106 0.094 0.152"/>-->
        <!--<cylinder radius="0.058" length="0.152"/>-->
        <mesh filename="meshes/sensors/sick_nanoscan3.dae"/>
      </geometry>
    </collision>
    <visual>
      <origin rpy="0 0 0" xyz="0 0 0"/>
      <geometry>
        <mesh filename="meshes/sensors/sick_nanoscan3.dae"/>
      </geometry>
    </visual>
    <inertial>
      <mass value="0.67"/>
      <origin rpy="0 0 0" xyz="0 0 0.04"/>
      <inertia ixx="0.000922386766667" ixy="0" ixz="0" iyy="0.000922386766667" iyz="0" izz="0.00113010686667"/>
      <!-- Datasheet dimensional drawing: 100.6 mm x 100.6 mm x 80 mm without connectors -->
    </inertial>
  </link>
  <joint name="front_laser_joint" type="fixed">
    <parent link="front_laser_base_link"/>
    <child link="front_laser_link"/>
    <origin rpy="3.14159265359 0 0" xyz="0.0 0.0 0.0505"/>
  </joint>
  <link name="front_laser_link"/>

  <joint name="top_laser_base_joint" type="fixed">
    <origin rpy="0 0 0" xyz="0.250 0.0 0.2896"/>
    <parent link="base_link"/>
    <child link="top_laser_base_link"/>
  </joint>
  <link name="top_laser_base_link">
    <collision>
      <origin rpy="0 0 0" xyz="0 0 0"/>
      <geometry>
        <!--<box size="0.106 0.094 0.152"/>-->
        <!--<cylinder radius="0.058" length="0.152"/>-->
        <mesh filename="meshes/sensors/sick_nanoscan3.dae"/>
      </geometry>
    </collision>
    <visual>
      <origin rpy="0 0 0" xyz="0 0 0"/>
      <geometry>
        <mesh filename="meshes/sensors/sick_nanoscan3.dae"/>
      </geometry>
    </visual>
    <inertial>
      <mass value="0.67"/>
      <origin rpy="0 0 0" xyz="0 0 0.04"/>
      <inertia ixx="0.000922386766667" ixy="0" ixz="0" iyy="0.000922386766667" iyz="0" izz="0.00113010686667"/>
      <!-- Datasheet dimensional drawing: 100.6 mm x 100.6 mm x 80 mm without connectors -->
    </inertial>
  </link>
  <joint name="top_laser_joint" type="fixed">
    <parent link="top_laser_base_link"/>
    <child link="top_laser_link"/>
    <origin rpy="0 0 0" xyz="0.0 0 0.0505"/>
  </joint>
  <link name="top_laser_link"/>
</robot>
